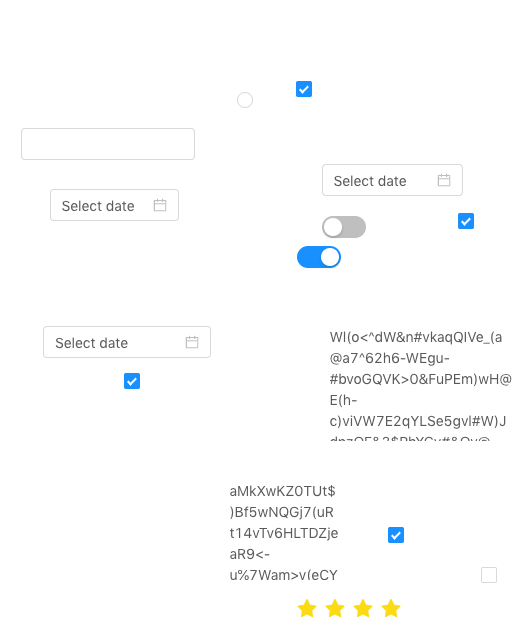Checkbox: (388, 524, 404, 545), (124, 370, 140, 391), (458, 210, 474, 231), (296, 78, 312, 99), (481, 564, 497, 585)
DatePicker: (43, 326, 211, 358), (322, 164, 463, 196), (50, 189, 179, 221)
Input: (21, 128, 195, 160)
Radio: (237, 89, 253, 109)
Rate: (297, 592, 417, 624)
Switch: (322, 215, 366, 239), (297, 245, 341, 269)
Text: (330, 326, 515, 441), (230, 480, 339, 580)
